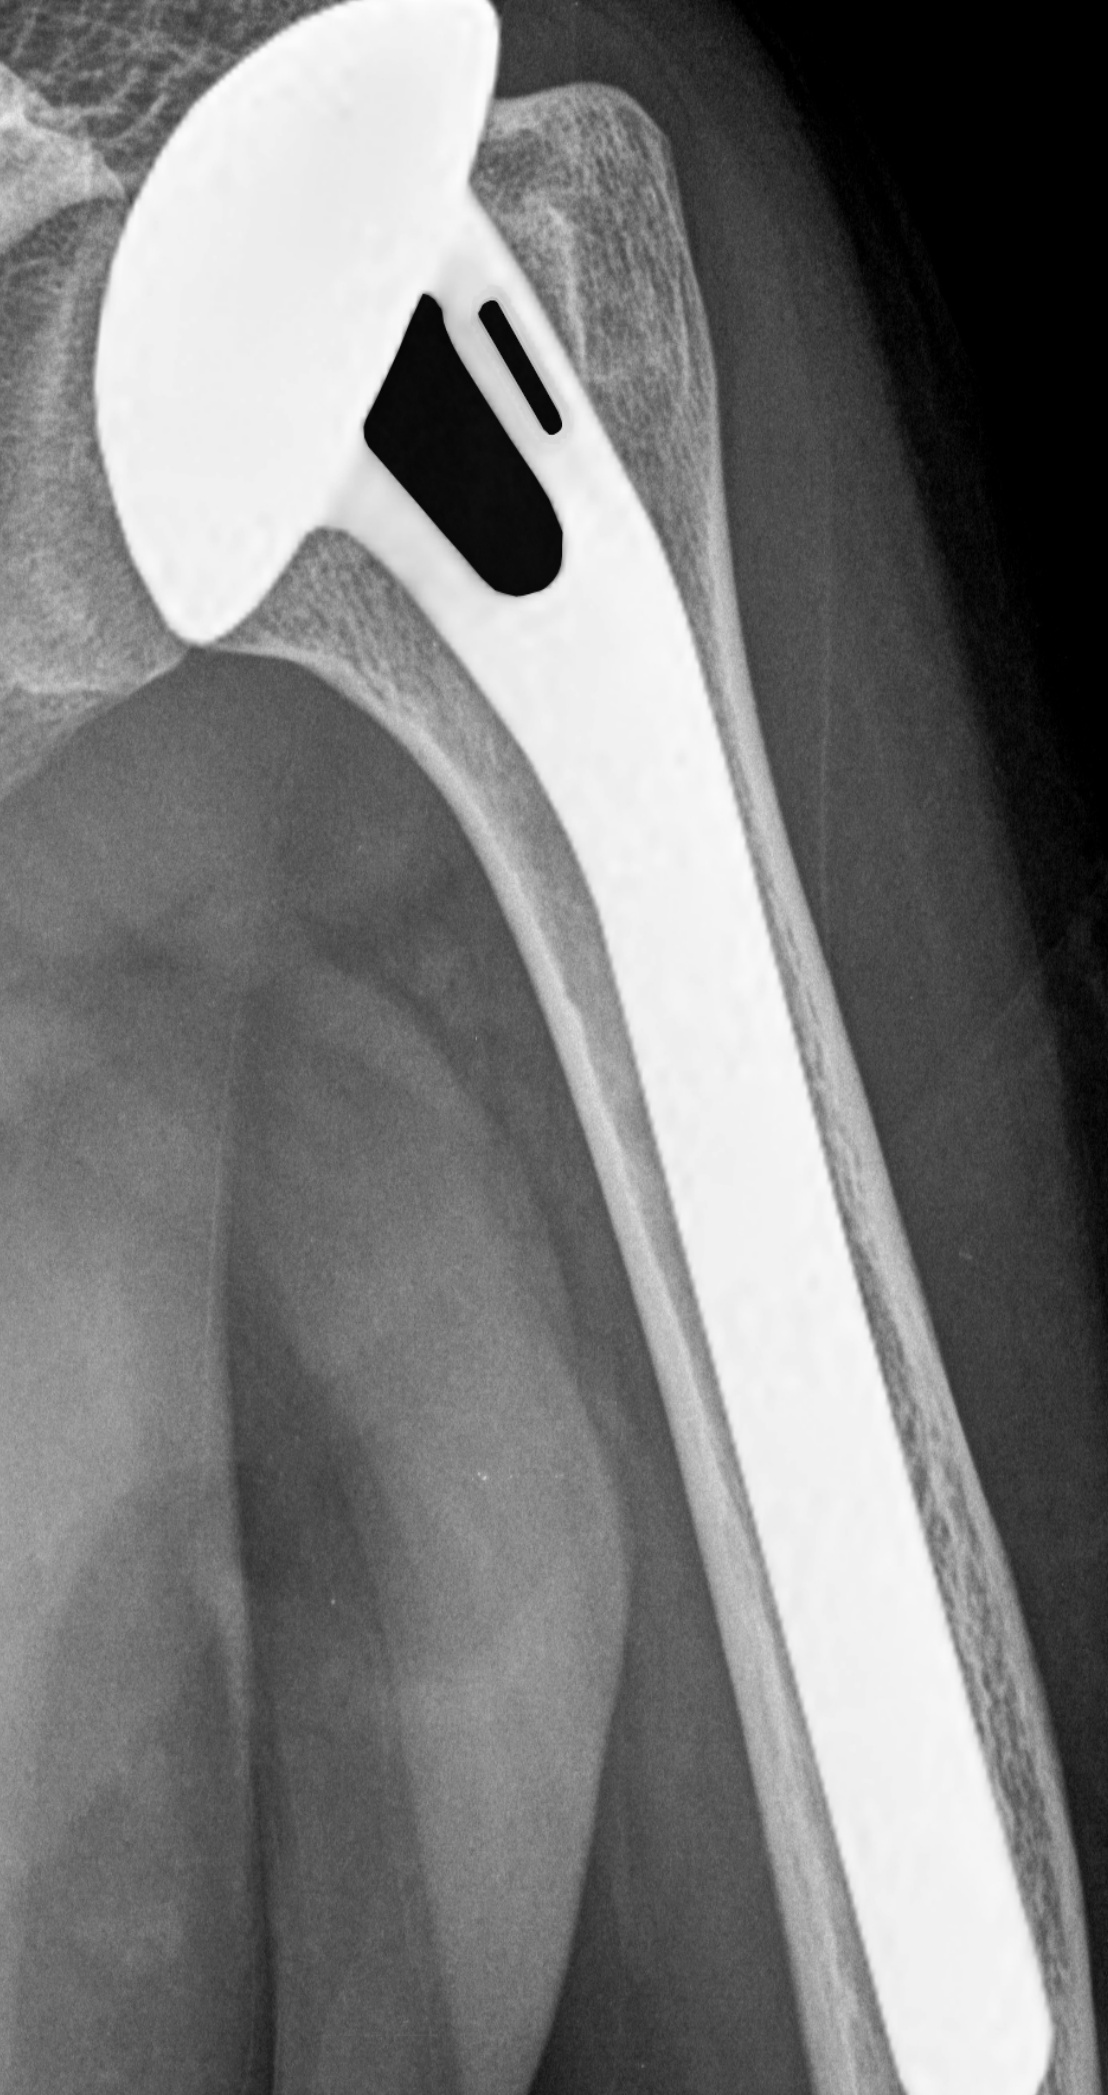Shoulder - AequalisFracture - Tornier: (87, 4, 648, 671)
